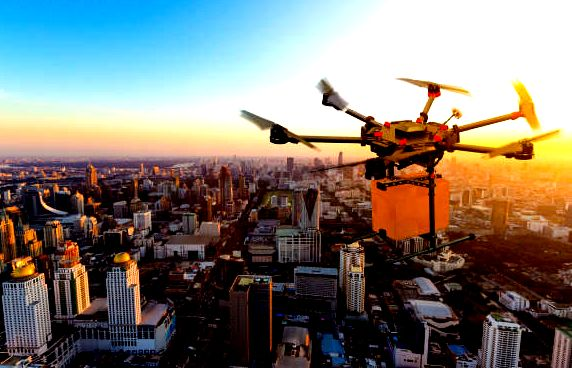Drone: (228, 72, 560, 186)
